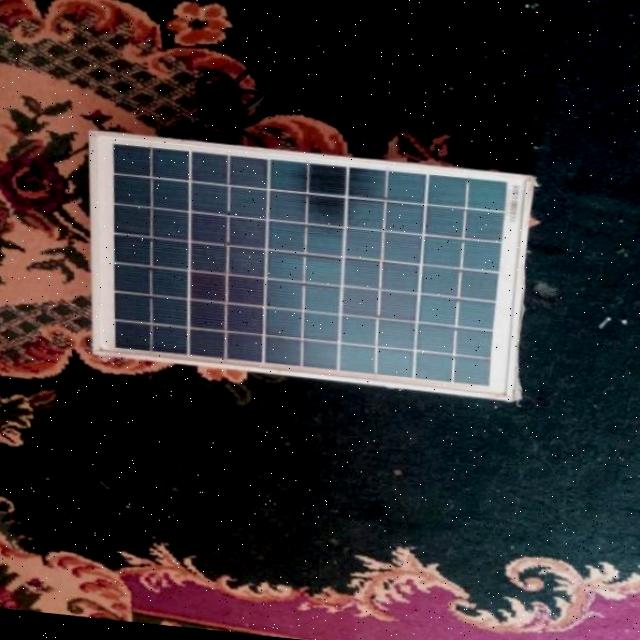Normal Solar Panel: (76, 132, 546, 402)
